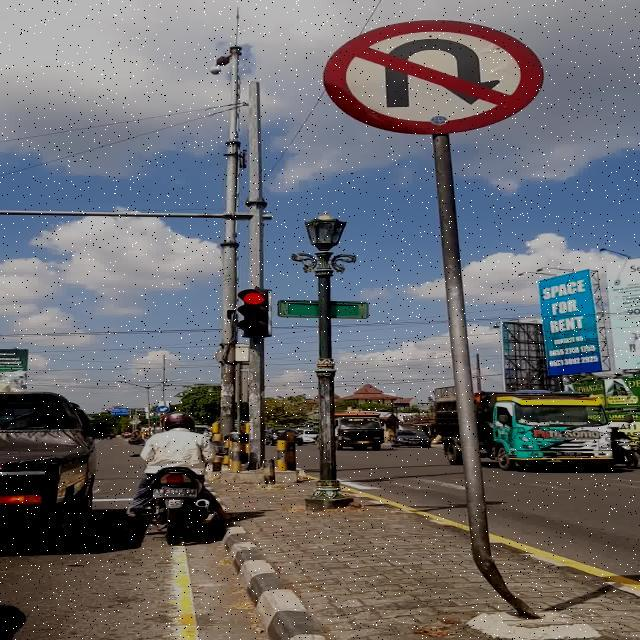Dilarang Putar Balik: (323, 20, 544, 134)
